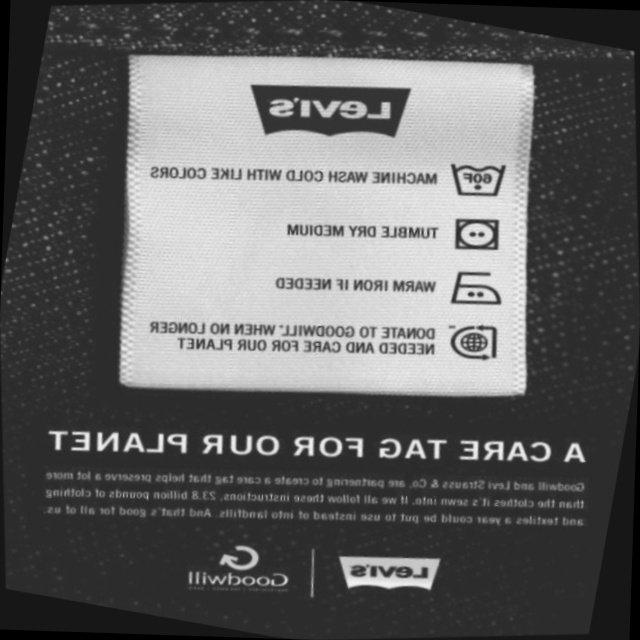30C: (437, 142, 518, 214)
iron_medium: (437, 254, 514, 322)
tumble_dry_medium: (441, 205, 513, 267)
